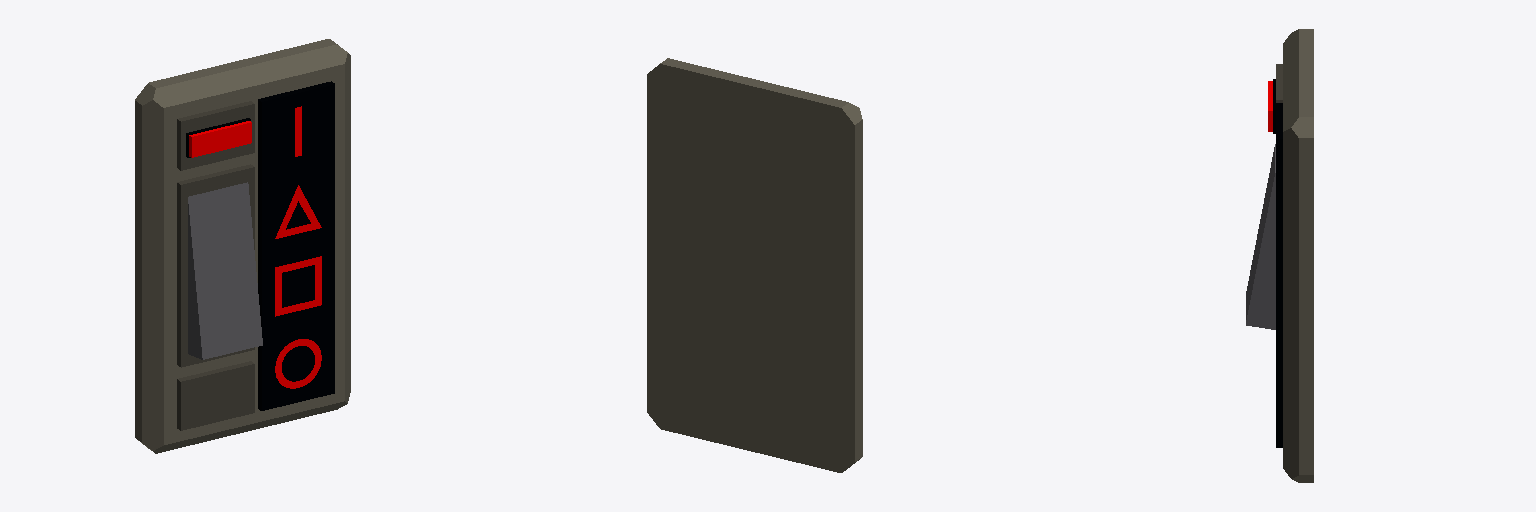
Rendered from Switch.obj.
The picture shows the model from 3 angles: view 1: azimuth 30°, elevation 25°; view 2: azimuth 150°, elevation 25°; view 3: azimuth 270°, elevation 25°; orthographic projection.
Parts seen in each view (by area): view 1: Part3, Part2, Union5, ScHold1, NmHold1, Part11, SwHold1, Union3, Union1, Union2, Union4, StHold1 (+7 smaller); view 2: Part7, Part9; view 3: Union5, Part9, Part2, ScHold1, Part11, Part7.
Boxes of the visible parts, <box> form: Part3: <box>164,64,344,444</box>; Part2: <box>188,182,262,359</box>; Union5: <box>142,45,350,453</box>; ScHold1: <box>258,81,334,410</box>; NmHold1: <box>177,361,254,430</box>; Part11: <box>156,44,344,107</box>; SwHold1: <box>177,164,254,367</box>; Union3: <box>268,93,328,170</box>; Union1: <box>268,170,328,247</box>; Union2: <box>268,325,328,402</box>; Union4: <box>268,247,328,324</box>; StHold1: <box>177,101,254,170</box>; Part7: <box>660,58,848,472</box>; Part9: <box>647,75,862,462</box>; Union5: <box>1283,30,1298,482</box>; Part9: <box>1299,138,1313,474</box>; Part2: <box>1246,144,1275,329</box>; ScHold1: <box>1276,103,1282,447</box>; Part11: <box>1283,29,1298,131</box>; Part7: <box>1299,29,1313,116</box>.
Bounding box in the file's own units: 3.88 × 6.5 × 1.11.